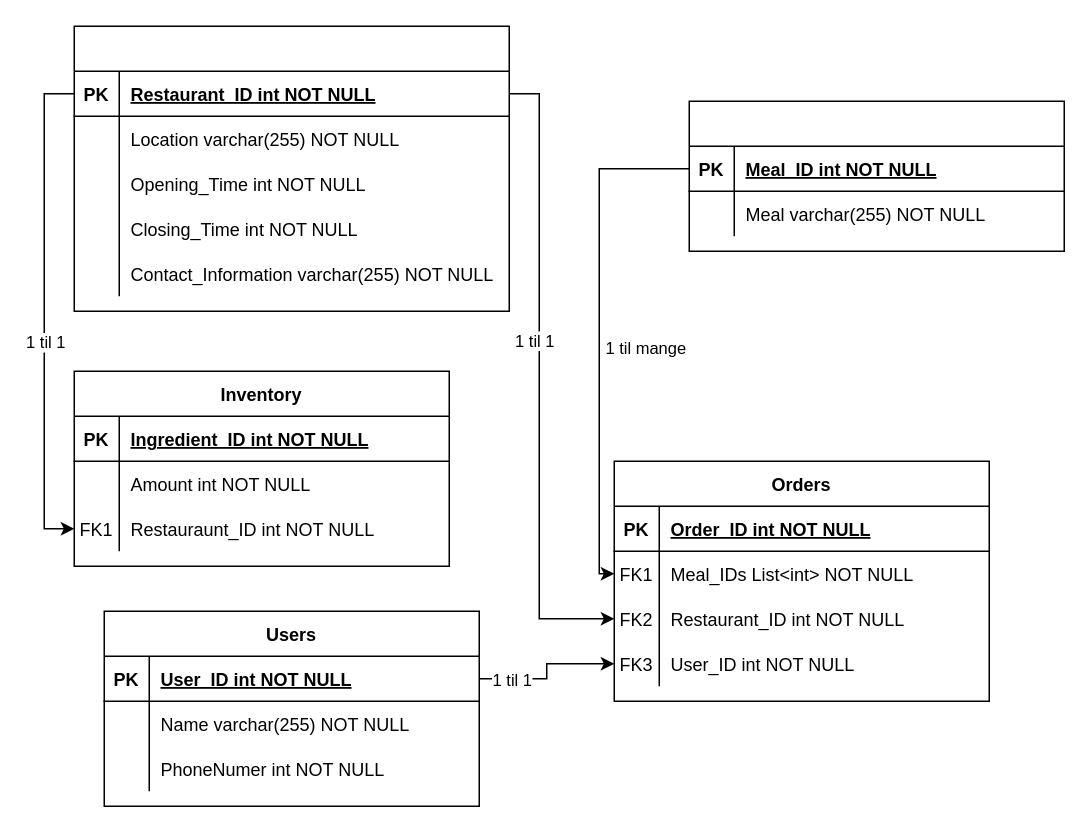
Image size: 1091x833. Some labels were removed from this diagram. Here are the shapes that lost their labels. From the top down, the box of each, then its label:
(73, 25, 509, 311): Restaurants
(688, 100, 1064, 251): Meals
